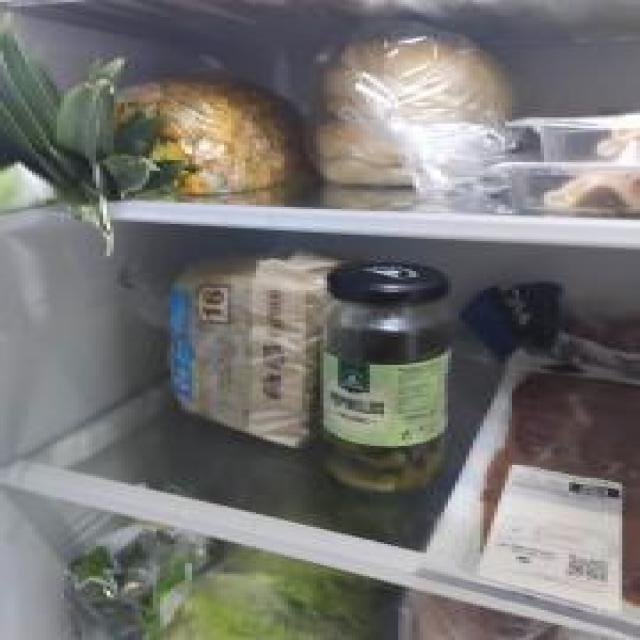bread: (118, 252, 342, 450)
pineapple: (0, 10, 309, 260)
salad: (149, 542, 384, 640)
